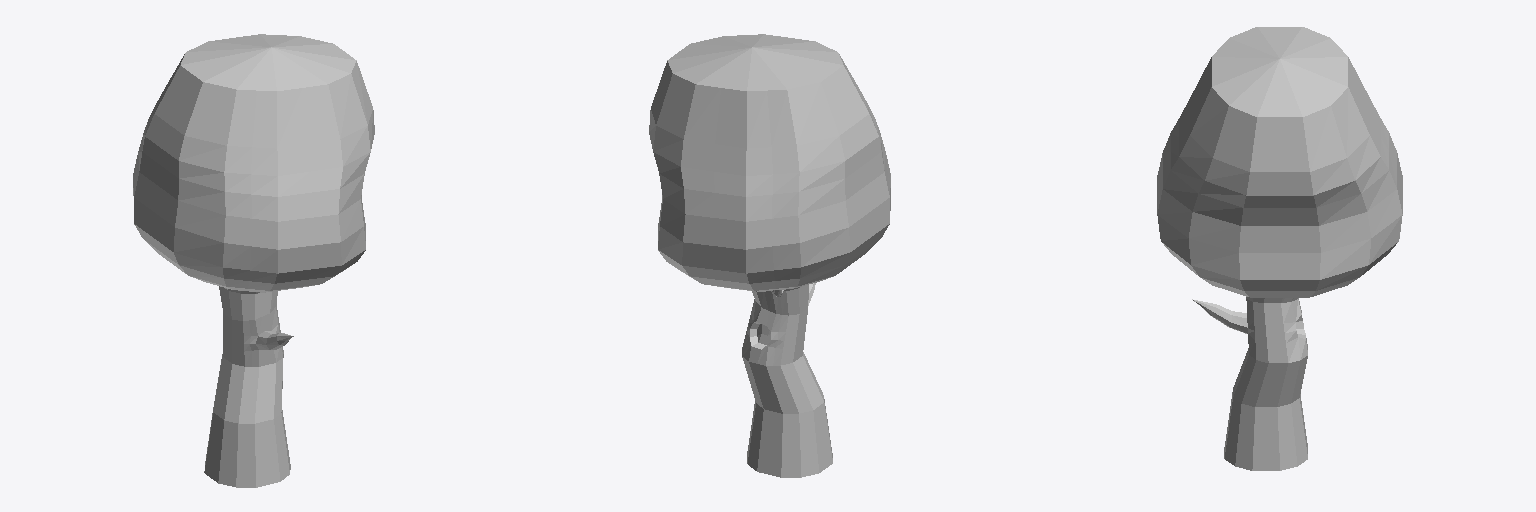
File: oak.obj
3 renders of one model, left to right at view 1: azimuth 30°, elevation 25°; view 2: azimuth 150°, elevation 25°; view 3: azimuth 270°, elevation 25°, orthographic.
Parts seen in each view (by area): view 1: A_simple_tree_Cube_Material.001_0; view 2: A_simple_tree_Cube_Material.001_0; view 3: A_simple_tree_Cube_Material.001_0.
Boxes of the visible parts, <box> form: A_simple_tree_Cube_Material.001_0: <box>133,34,374,487</box>; A_simple_tree_Cube_Material.001_0: <box>649,34,890,477</box>; A_simple_tree_Cube_Material.001_0: <box>1157,27,1402,470</box>.
Size of the model in its own units: 712 by 1361 by 739.